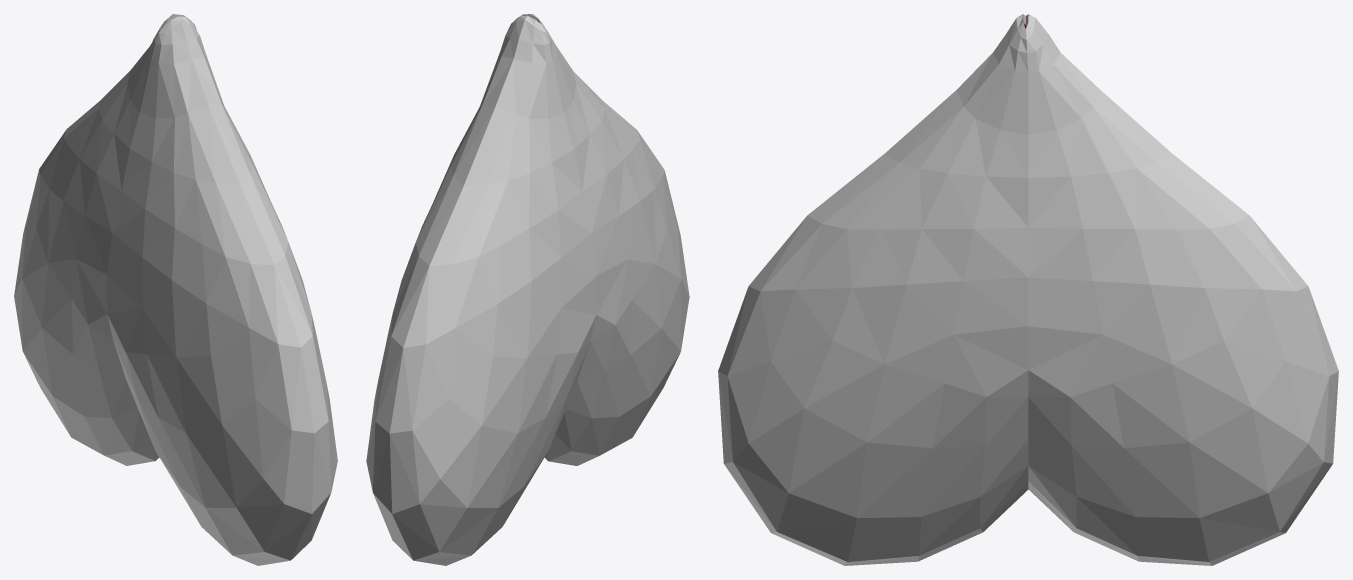
The model's file is BR_Luvdisc.obj.
3 renders of one model, left to right at view 1: azimuth 30°, elevation 25°; view 2: azimuth 150°, elevation 25°; view 3: azimuth 270°, elevation 25°, orthographic. The views are drawn at different scales.
Parts seen in each view (by area): view 1: lovecus; view 2: lovecus; view 3: lovecus.
Part boxes in pixels (box(x1,y1,x2,y2)): lovecus: box(14, 14, 337, 565); lovecus: box(366, 14, 689, 565); lovecus: box(718, 14, 1338, 565).
Bounding box in the file's own units: 1.77 × 6 × 6.13.
